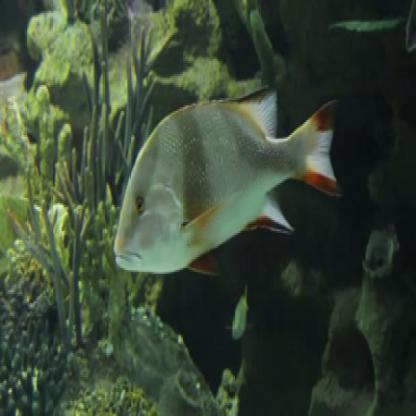Lutjanidae -Snappers-: (110, 80, 346, 284)
